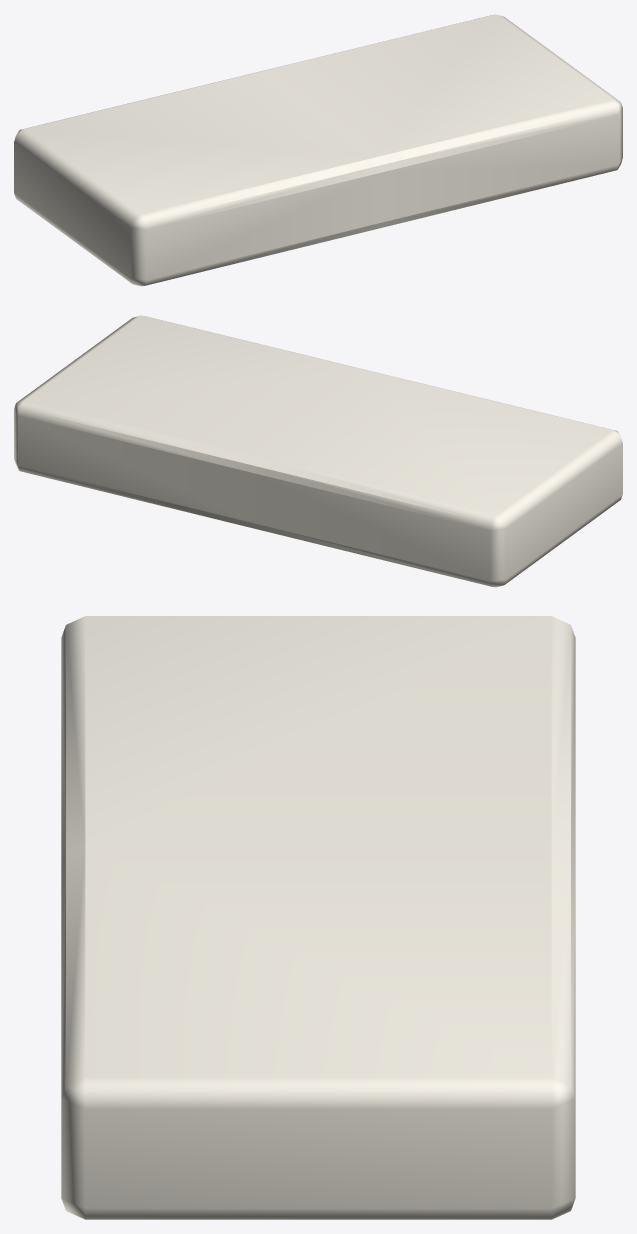
3 renders of one model, top to bottom at view 1: azimuth 30°, elevation 25°; view 2: azimuth 150°, elevation 25°; view 3: azimuth 270°, elevation 25°, orthographic. The views are drawn at different scales.
Parts seen in each view (by area): view 1: domino:domino:domino:domino:polySurface28; view 2: domino:domino:domino:domino:polySurface28; view 3: domino:domino:domino:domino:polySurface28.
Part boxes in pixels (left/top/right/bottom): domino:domino:domino:domino:polySurface28: left=14, top=14, right=622, bottom=286; domino:domino:domino:domino:polySurface28: left=14, top=315, right=622, bottom=587; domino:domino:domino:domino:polySurface28: left=61, top=616, right=575, bottom=1219.
Size of the model in its own units: 3.28 by 0.4593 by 1.48.
Materials: 1 (1 with a texture image).
